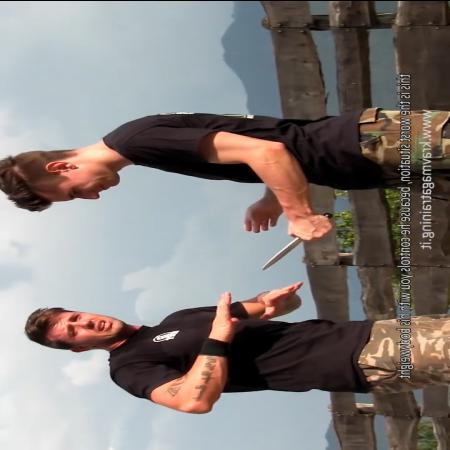long weapon: (256, 210, 340, 272)
